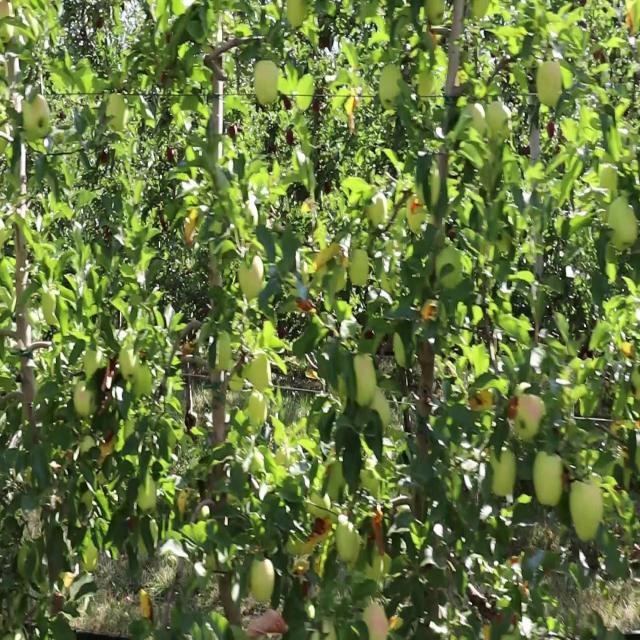apple: (572, 483, 604, 546), (536, 455, 567, 510), (536, 56, 564, 110), (512, 398, 545, 443), (492, 447, 518, 500), (24, 92, 51, 140), (612, 206, 640, 251), (240, 255, 266, 299), (380, 63, 403, 112), (256, 63, 280, 107), (252, 561, 276, 604), (364, 604, 390, 638), (372, 511, 389, 558), (368, 199, 395, 228), (76, 383, 94, 420), (352, 255, 371, 290), (288, 1, 309, 32), (184, 213, 200, 249), (104, 362, 118, 395), (420, 298, 438, 322), (420, 341, 436, 368), (428, 0, 445, 23), (344, 92, 359, 117), (632, 391, 640, 434), (316, 519, 332, 539), (620, 341, 636, 361), (264, 7, 281, 25), (628, 7, 637, 37), (0, 7, 13, 25)
